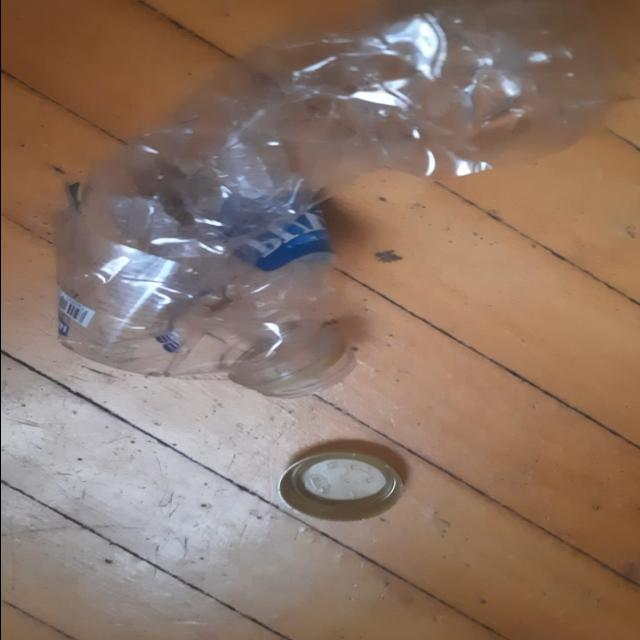Plastic: (53, 3, 622, 394)
